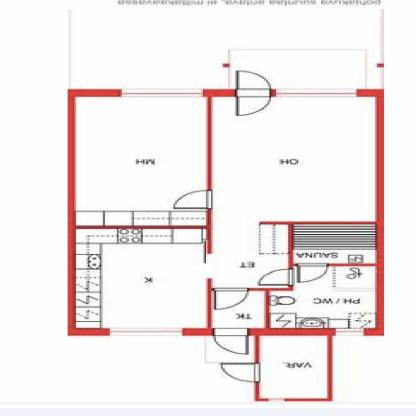door: (234, 70, 274, 117), (212, 327, 249, 355), (218, 362, 262, 383), (170, 189, 216, 209), (214, 288, 247, 310), (298, 263, 328, 283), (257, 268, 293, 284)
window: (121, 88, 202, 96), (110, 328, 182, 336), (276, 89, 356, 96), (337, 328, 363, 336), (268, 397, 285, 401)
zone: (75, 96, 376, 328), (75, 96, 206, 226), (269, 266, 376, 326), (230, 50, 364, 89), (258, 336, 326, 398), (212, 291, 264, 327)
